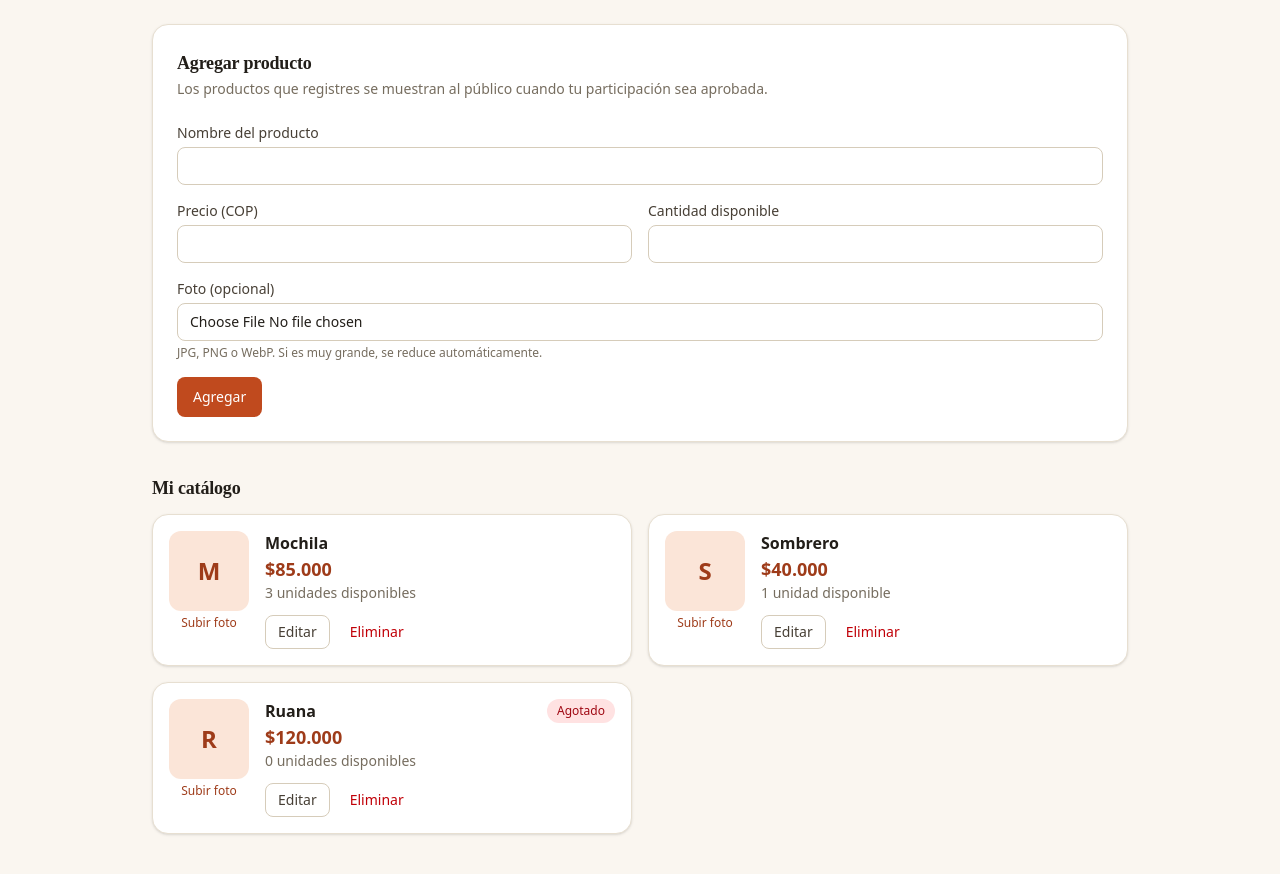
Test: PanelArtesano: editar producto › cancelar vuelve al modo agregar
(page scrolled)
Expected: the heading "Mochila" is shown, [265,531,328,555]
What coordinates should you click on to do the following:
click the button "Editar" below "85.000"
I would click on:
 (297, 632)
Its box is [265,615,330,649].
(page scrolled)
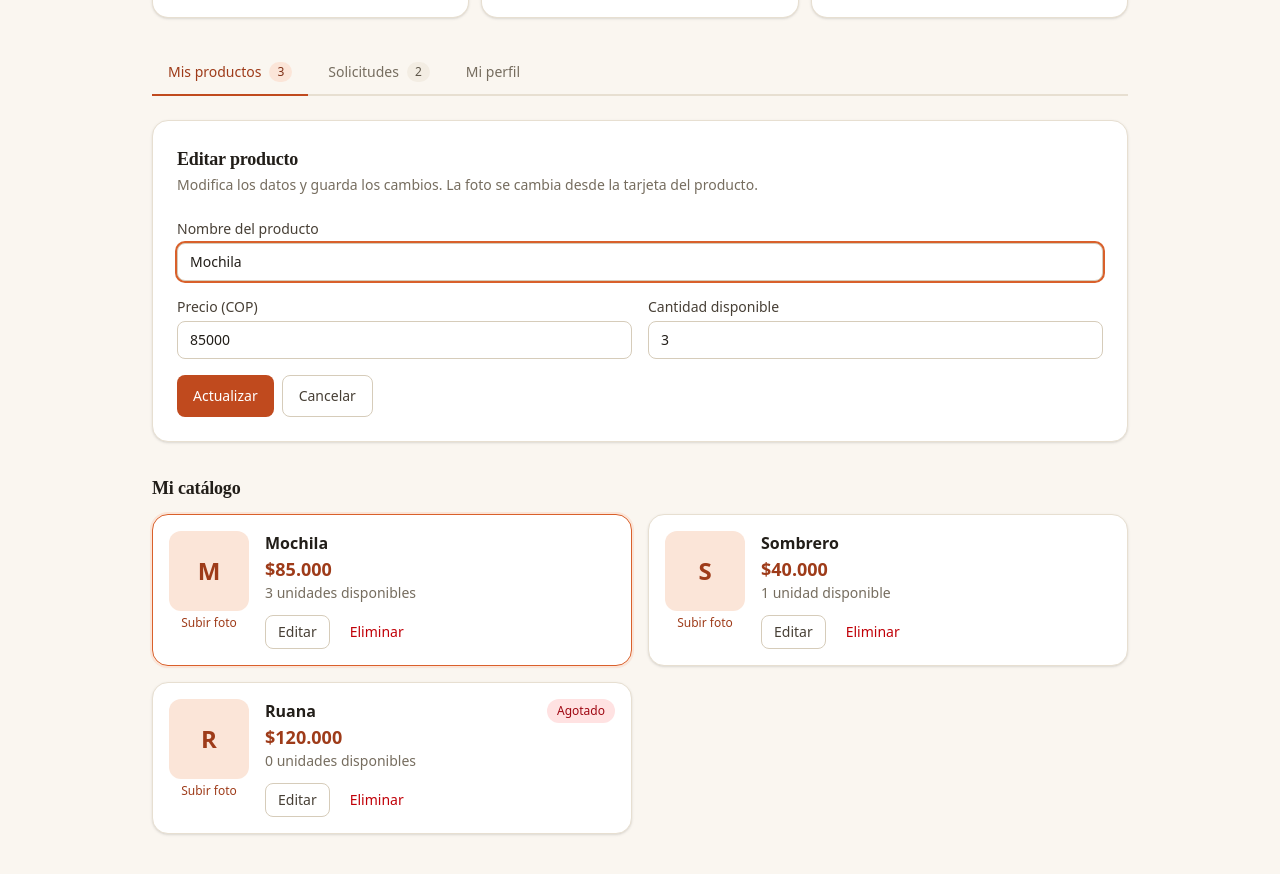
What coordinates should you click on to do the following:
click the button "Cancelar"
I would click on:
 (327, 396)
Its box is [282,375,373,417].
(page scrolled)
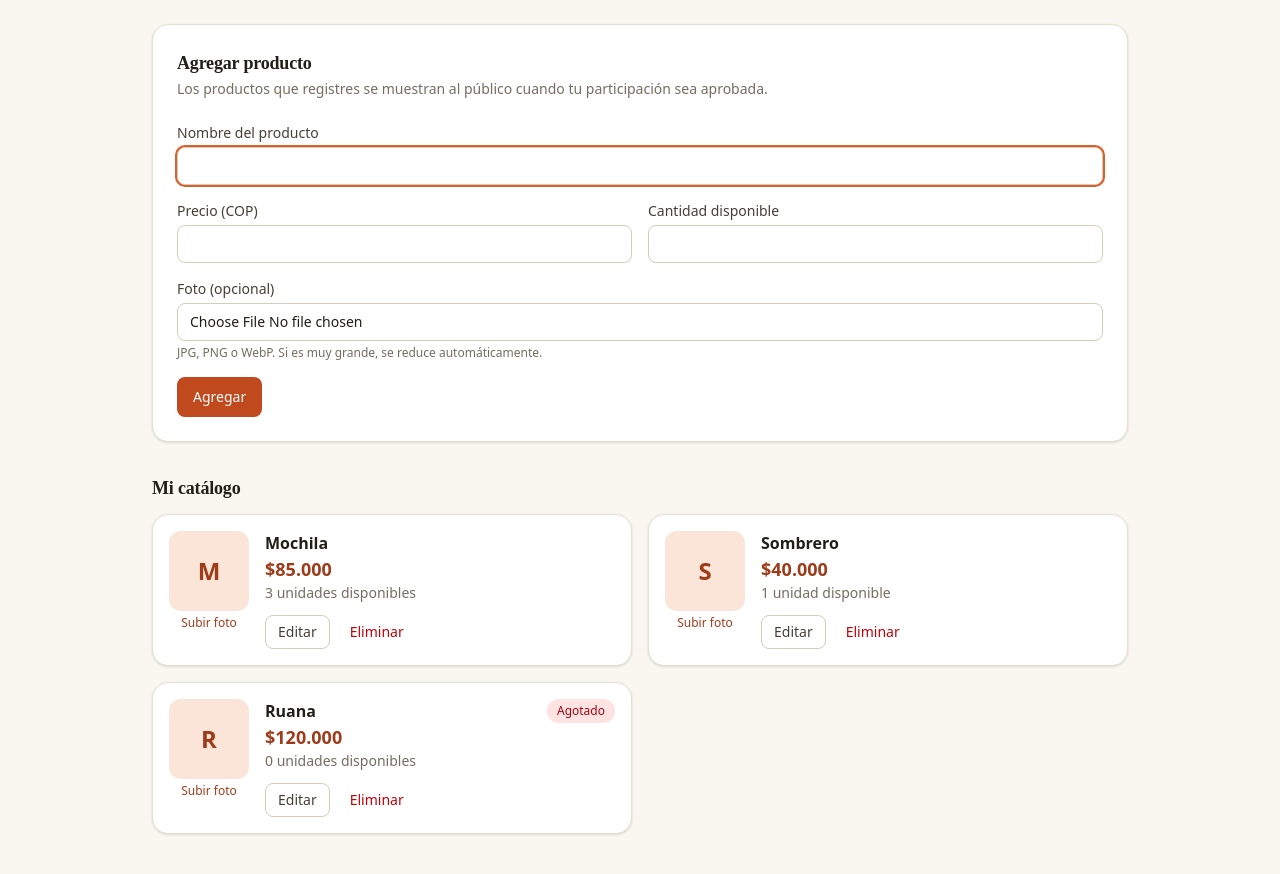
Expected: the heading "Agregar producto" is shown, [177,53,312,73]
Expected: the field labelled "Nombre del producto" is empty, [177,147,1103,185]
